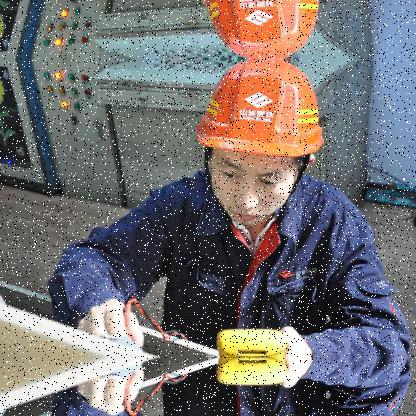Helmet: (190, 60, 327, 232), (186, 0, 329, 66)
